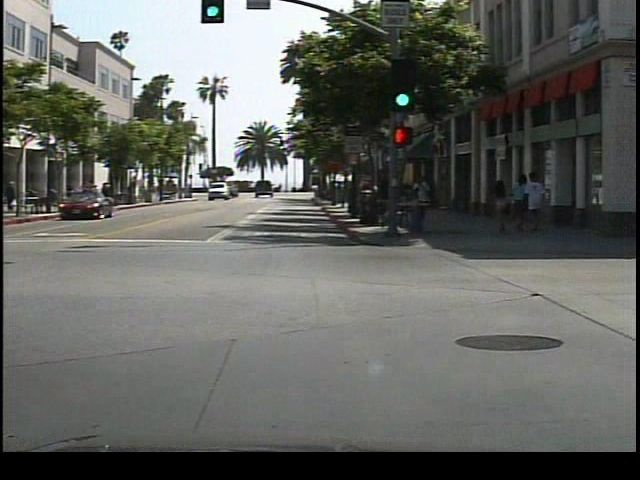person: (417, 170, 444, 225), (11, 176, 26, 213)
